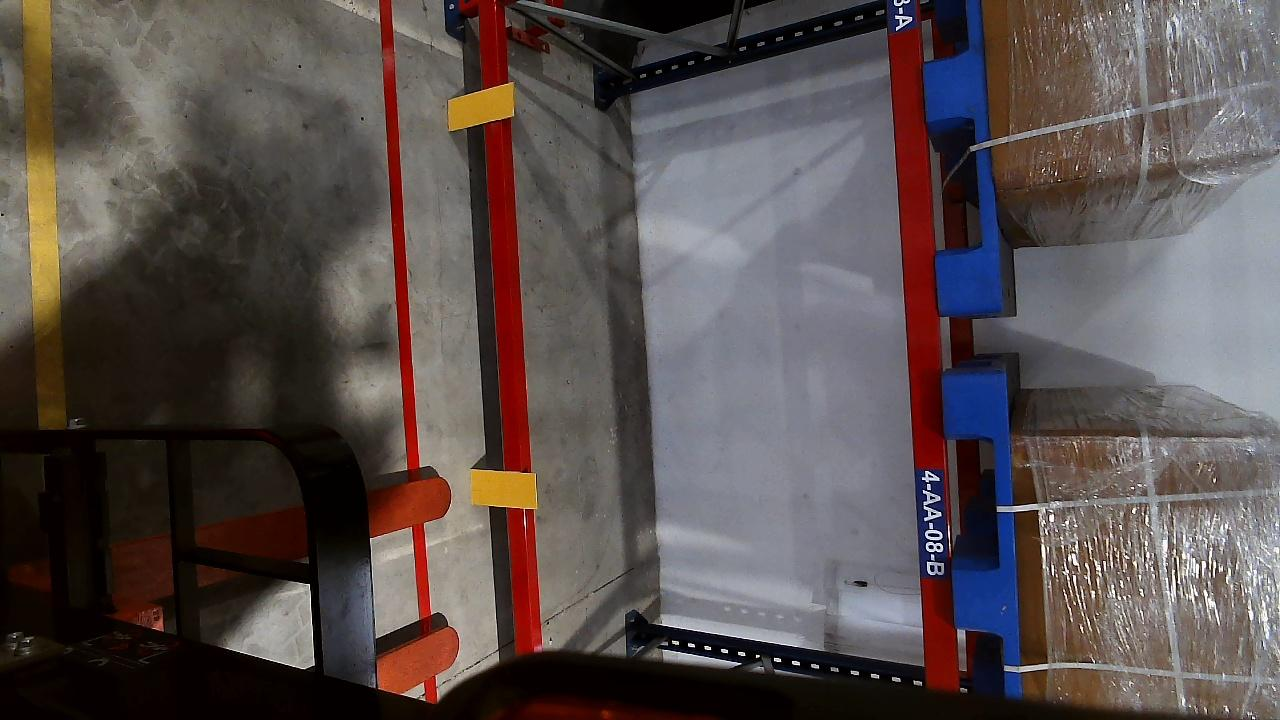h_rack: (884, 0, 951, 614), (477, 73, 532, 637)
orange_strip: (446, 83, 515, 129), (470, 469, 536, 509)
red_line: (377, 2, 422, 471)
small_pallet: (917, 1, 1008, 311), (940, 363, 1025, 680)
yellow_line: (21, 2, 67, 429)
